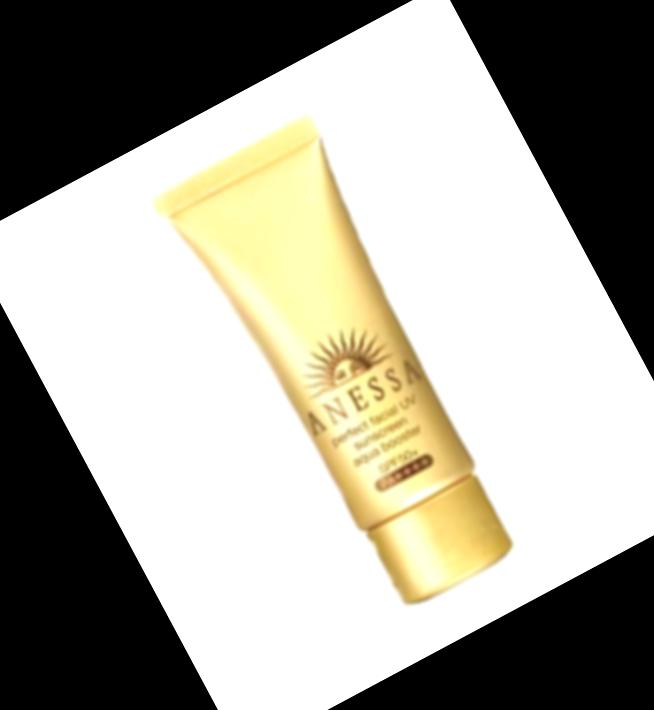cosmetic: (146, 113, 539, 627)
